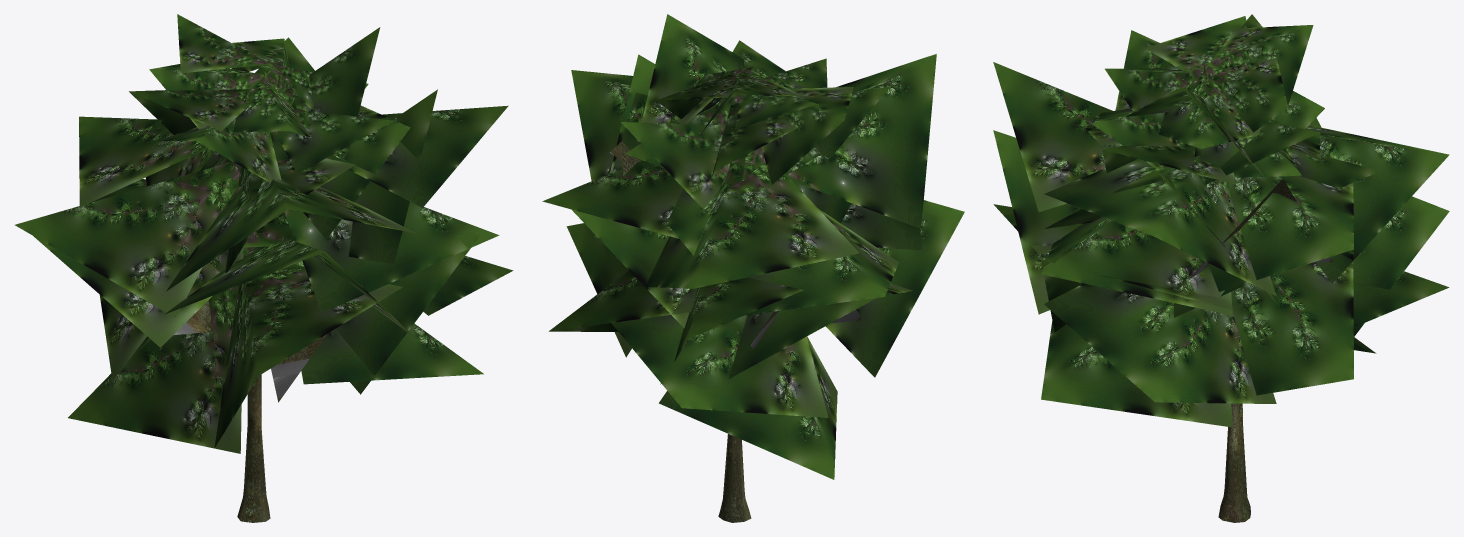
The model's file is beech_b.DAE.
3 renders of one model, left to right at view 1: azimuth 30°, elevation 25°; view 2: azimuth 150°, elevation 25°; view 3: azimuth 270°, elevation 25°, orthographic. The views are drawn at different scales.
Visible parts, largest first — view 1: beech_b; view 2: beech_b; view 3: beech_b.
Boxes of the visible parts, x1=… form: beech_b: x1=15, y1=14, x2=513, y2=522; beech_b: x1=542, y1=14, x2=964, y2=522; beech_b: x1=993, y1=14, x2=1449, y2=522.
Size of what is drawn, in the model's own units: 206 by 199 by 229.
